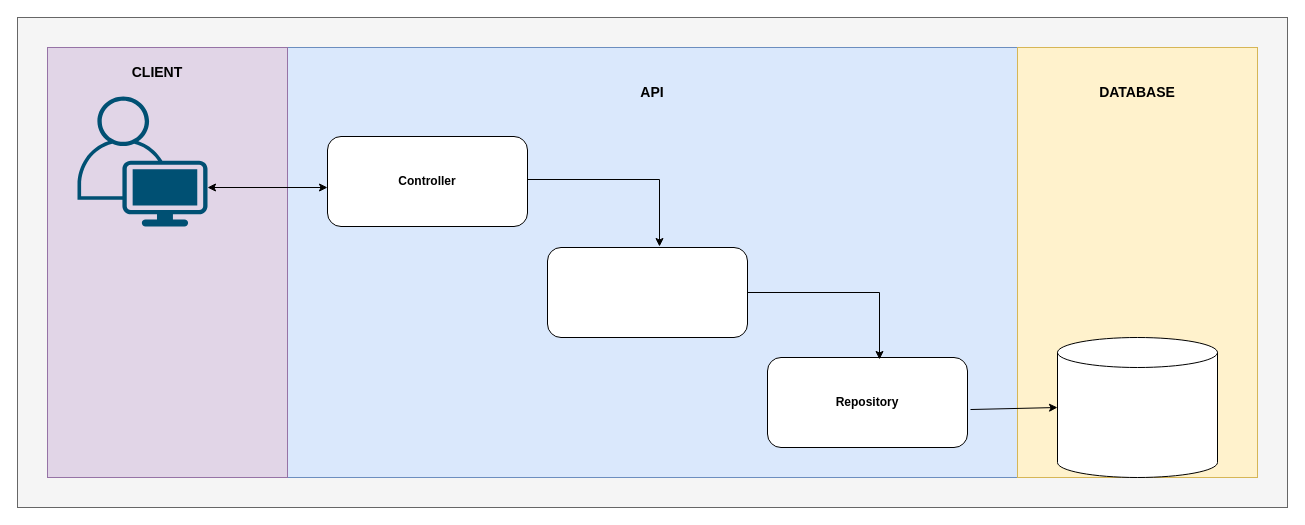
Some shapes in this 1305 by 525 pixel diagram are drawn without their labels. The shapes that lost their labels are listed below. From the top down, each one's box as (x1, y1, x2, y2) in pixels, then its label:
(546, 246, 748, 338): Service
(1056, 336, 1218, 478): ` db_security
